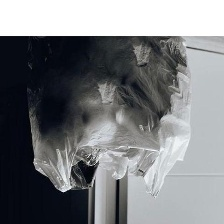plastic_bag: (13, 33, 197, 206)
